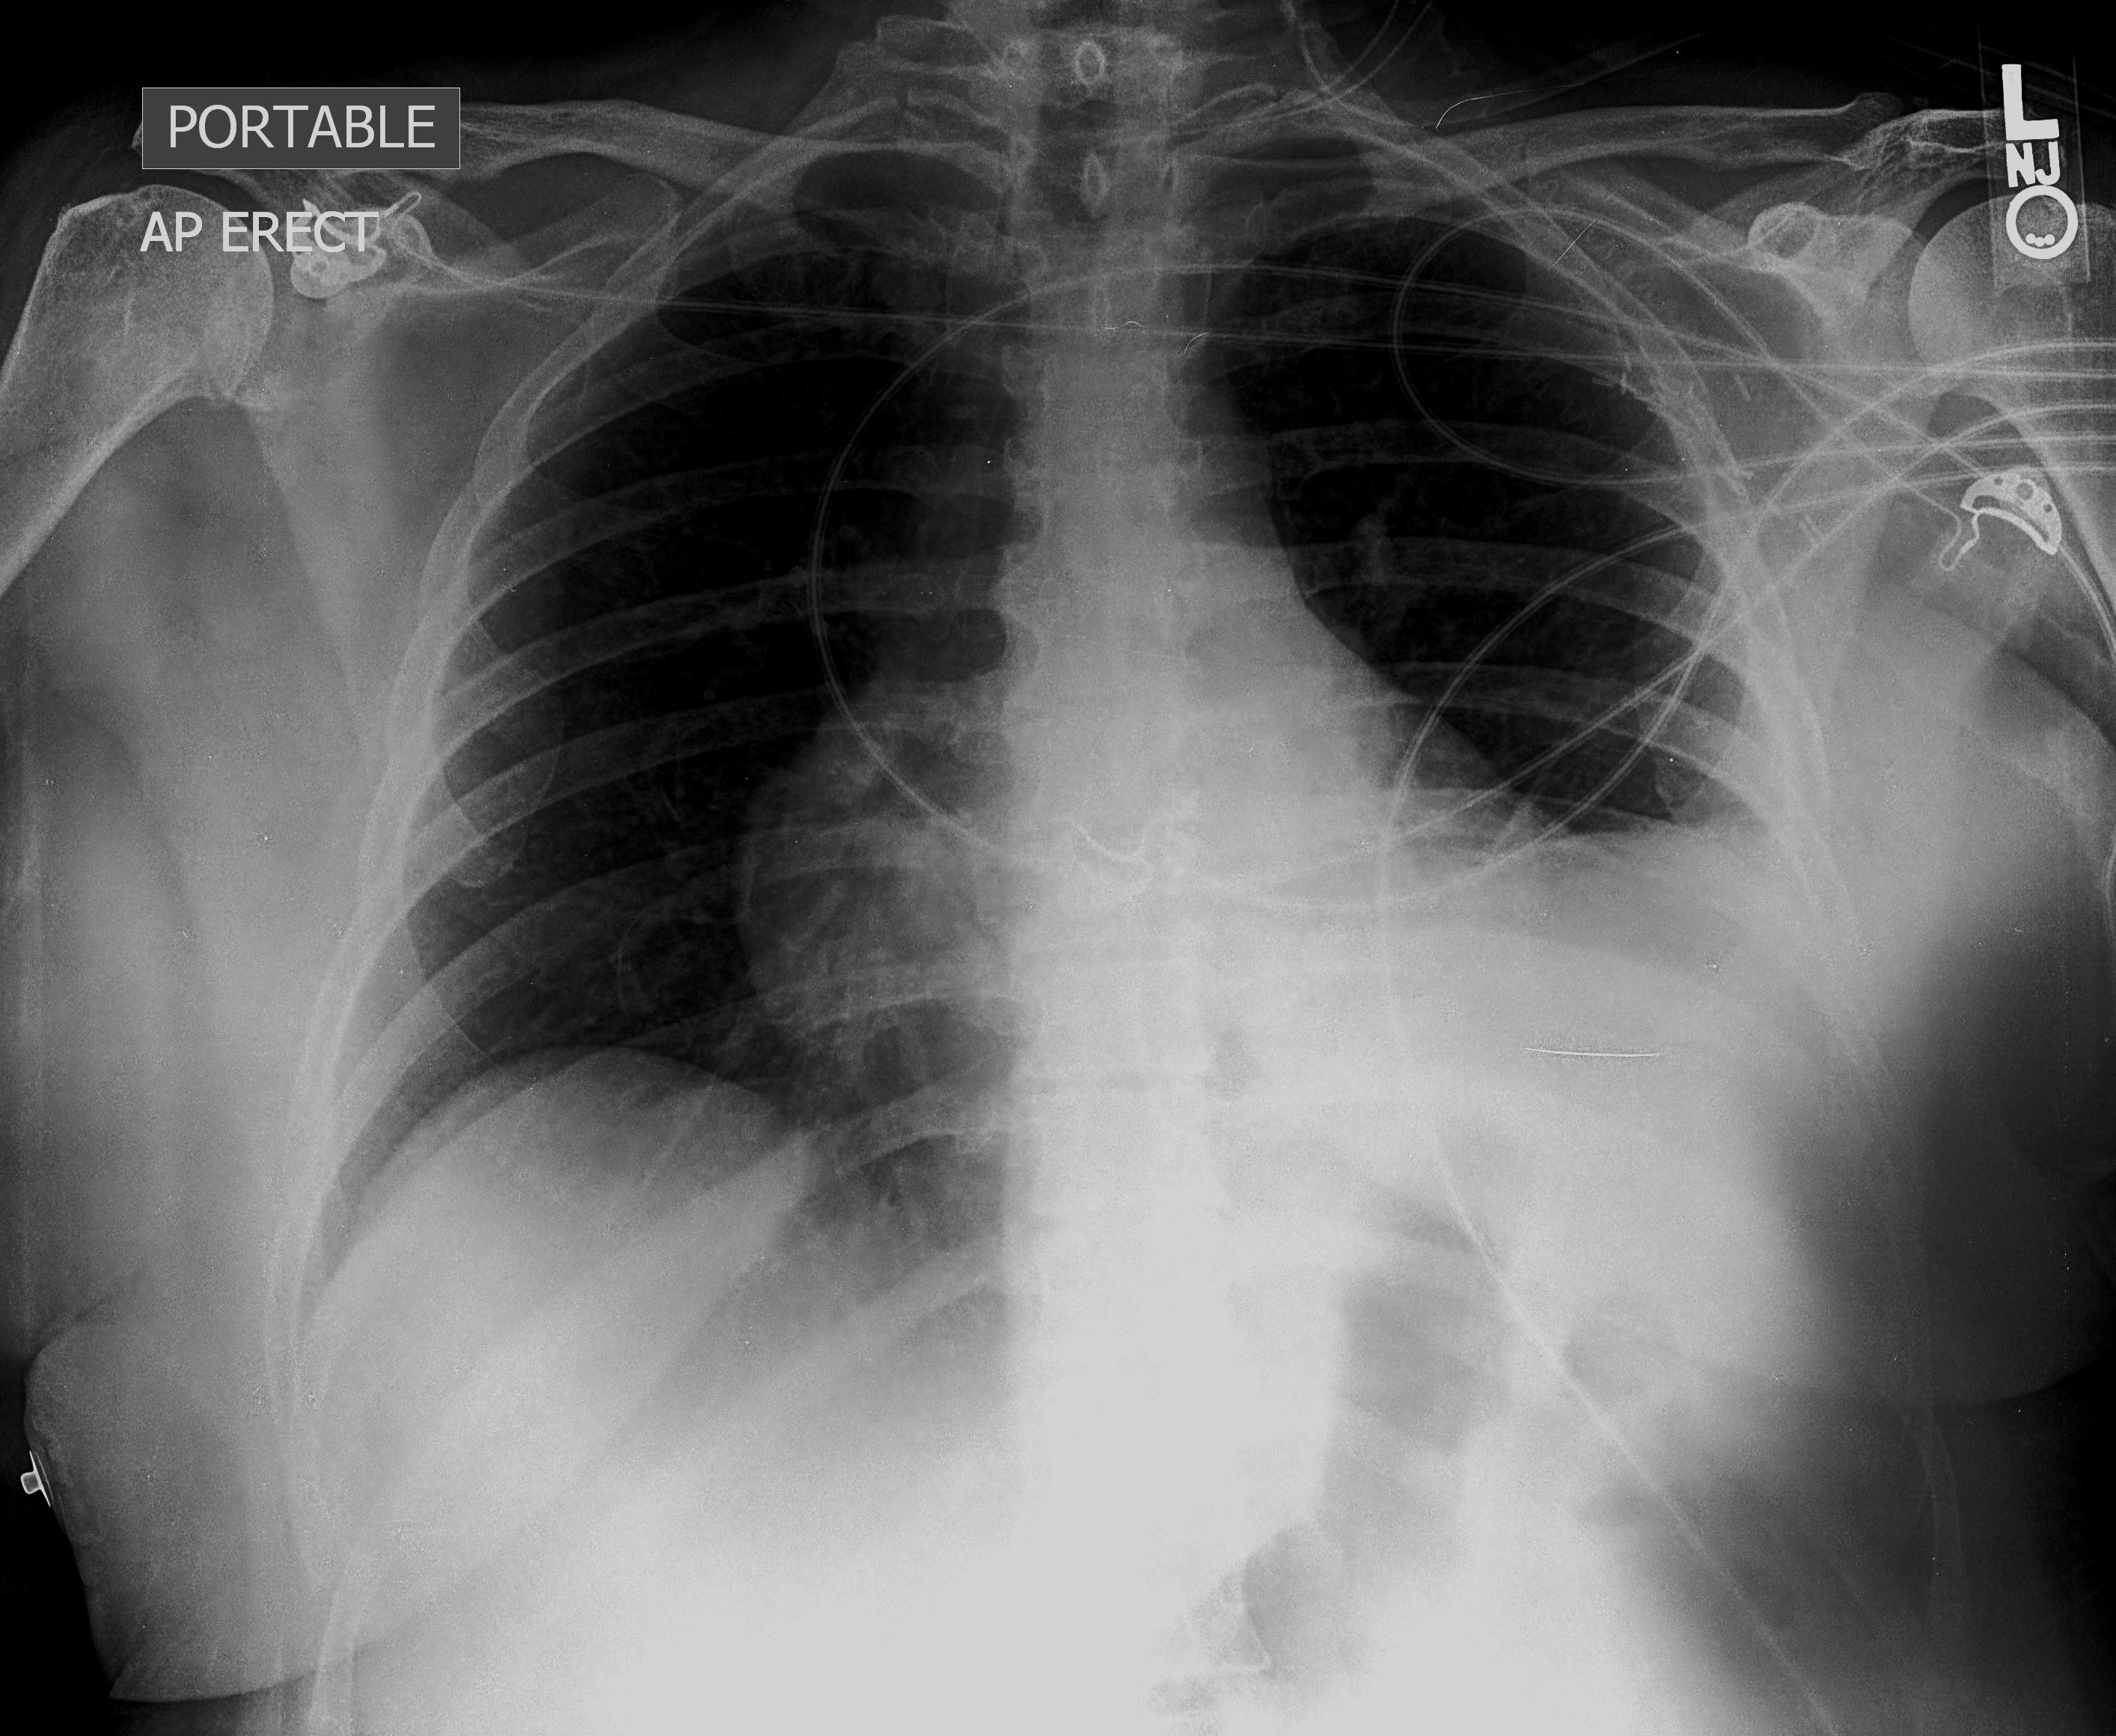Pleural Effusion: (1467, 822, 1947, 1297)
